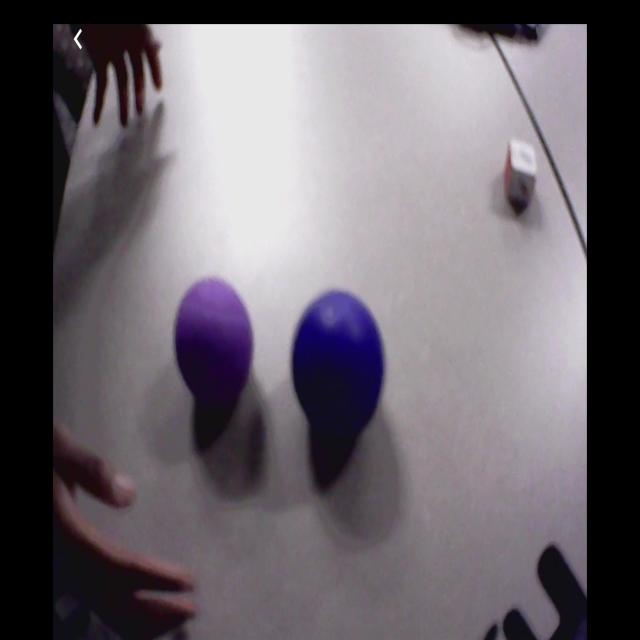ball: (295, 291, 390, 430), (176, 279, 256, 413)
